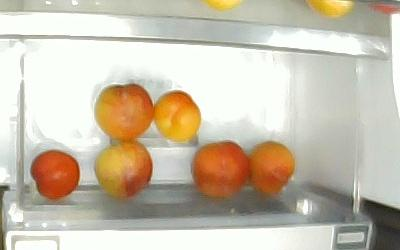prune: (94, 84, 154, 144), (94, 140, 153, 199), (191, 140, 247, 200), (248, 140, 296, 194), (30, 149, 80, 199), (154, 90, 203, 140)
